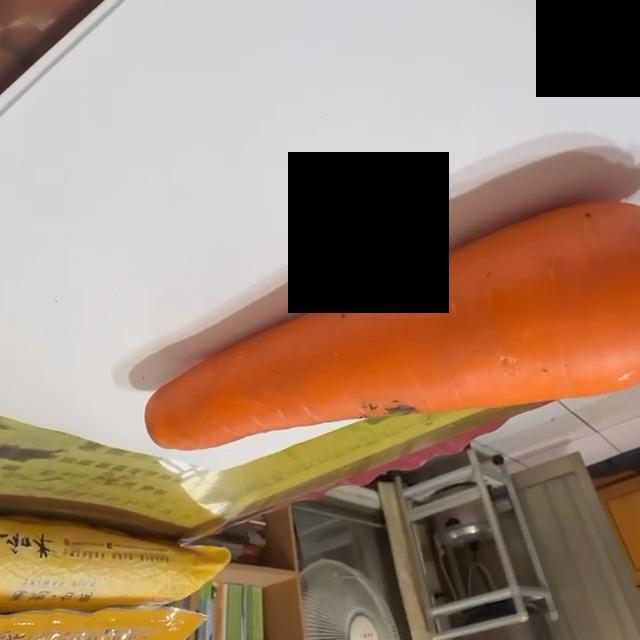carrot: (139, 203, 640, 458)
